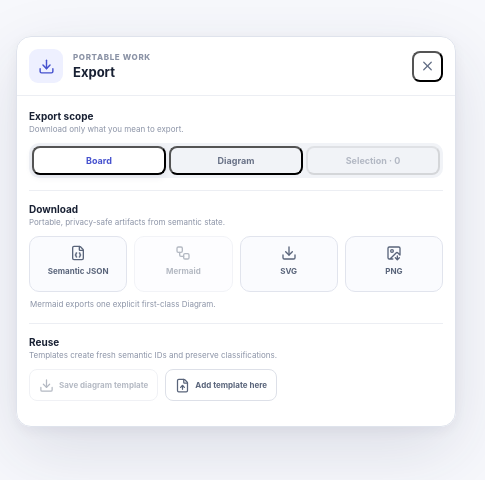
Scenario: DurabilityPanel › enables Diagram-only Mermaid and template workflows for participants
The width and height of the screenshot is (485, 480).
Click the button "Diagram": (236, 161) [169,146,303,175]
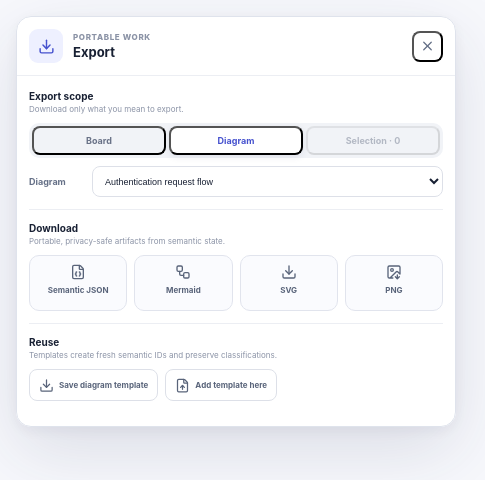
Expected: the button "Mermaid" is enabled, [134,255,233,311]
Expected: the button "Save diagram template" is enabled, [29,369,158,401]
